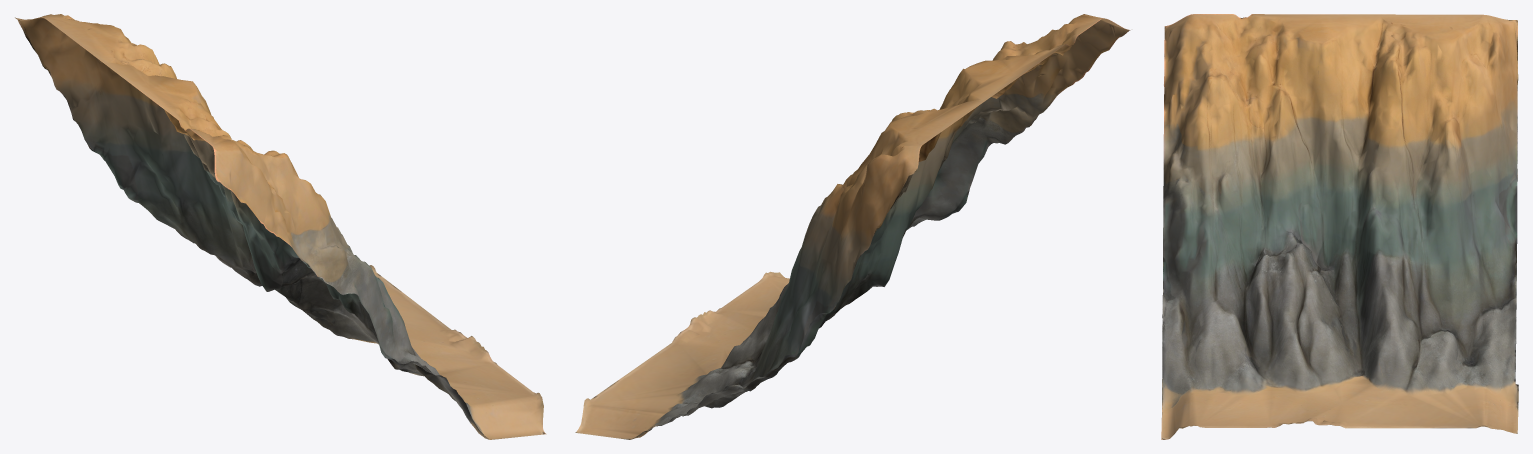
The model's file is Wall Side v21.glb.
The picture shows the model from 3 angles, left to right: view 1: azimuth 30°, elevation 25°; view 2: azimuth 150°, elevation 25°; view 3: azimuth 270°, elevation 25°; orthographic projection. The views are drawn at different scales.
Bounding box in the file's own units: 1.87 × 1.83 × 2.
Materials: 1 (1 with a texture image).
